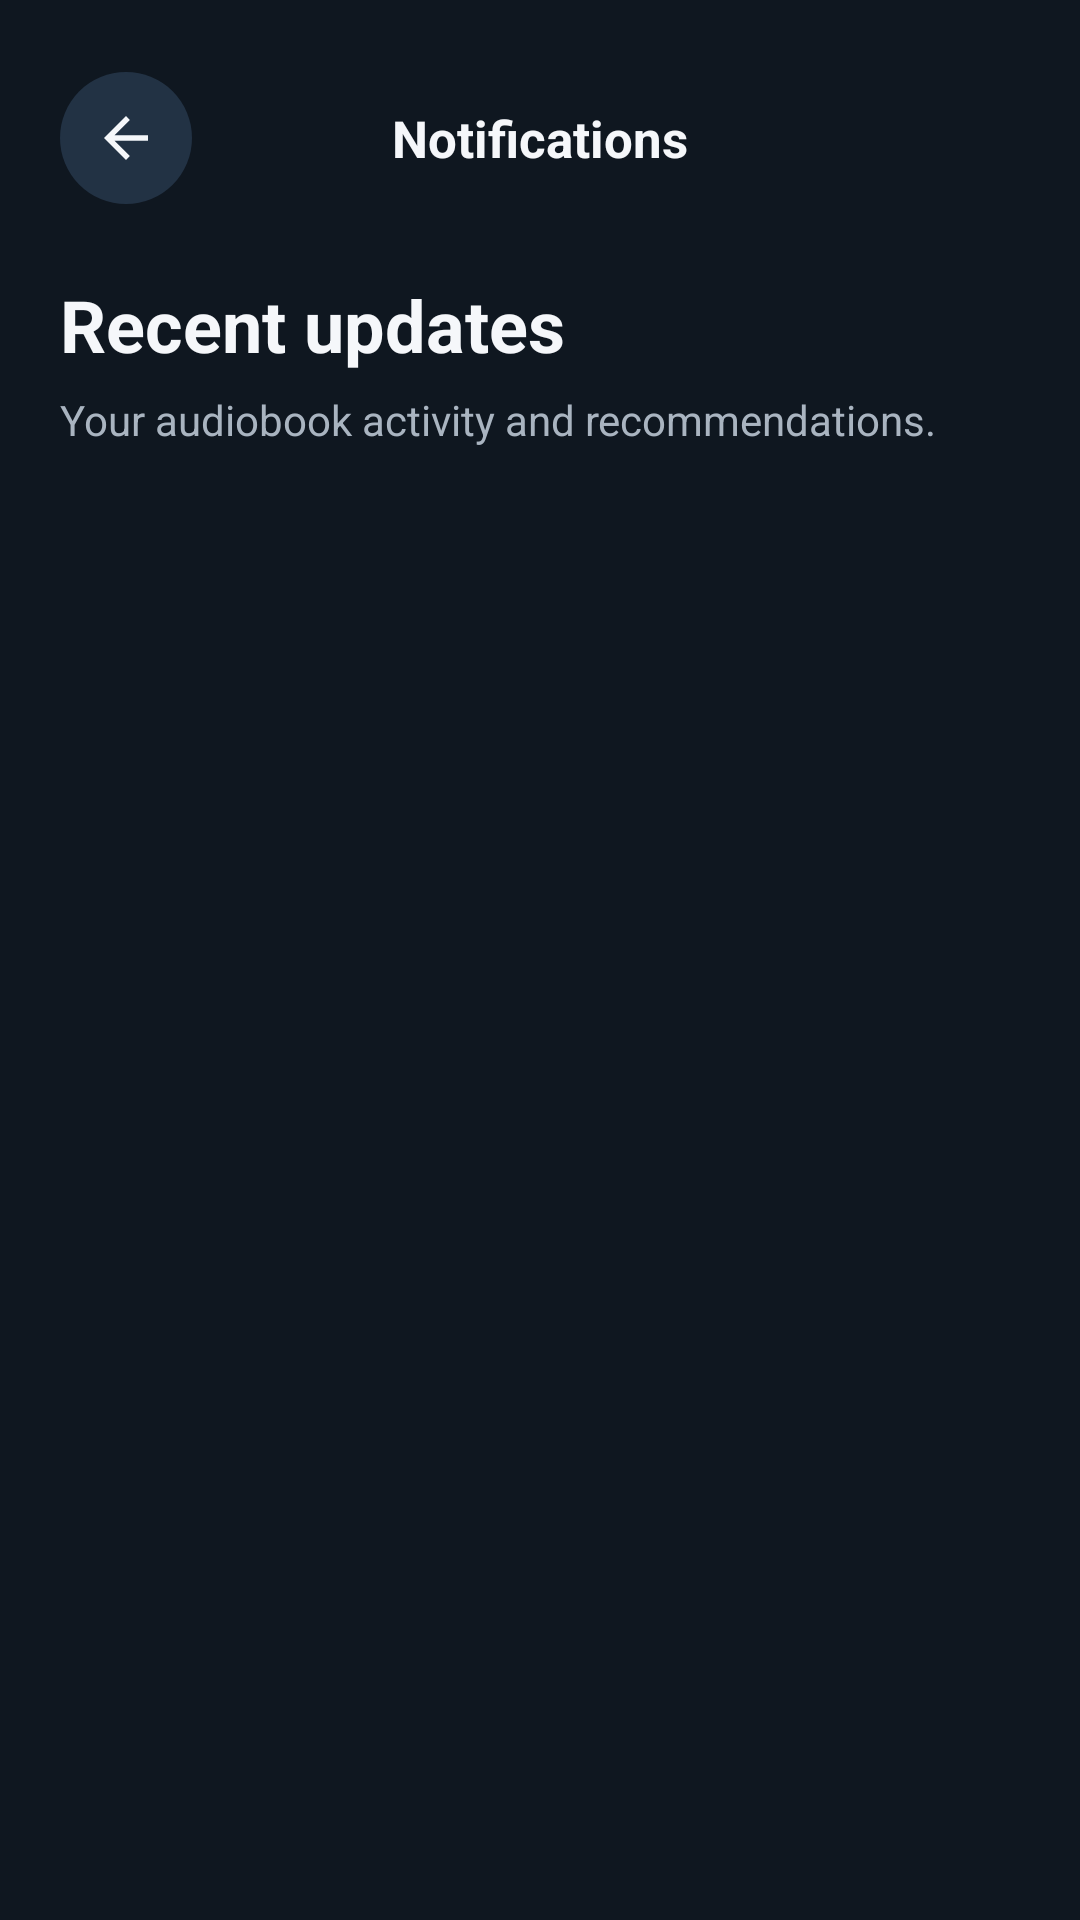

Icon click points for this 1080x1920 phone screenshot, format (x,y):
Back: (126,138)
